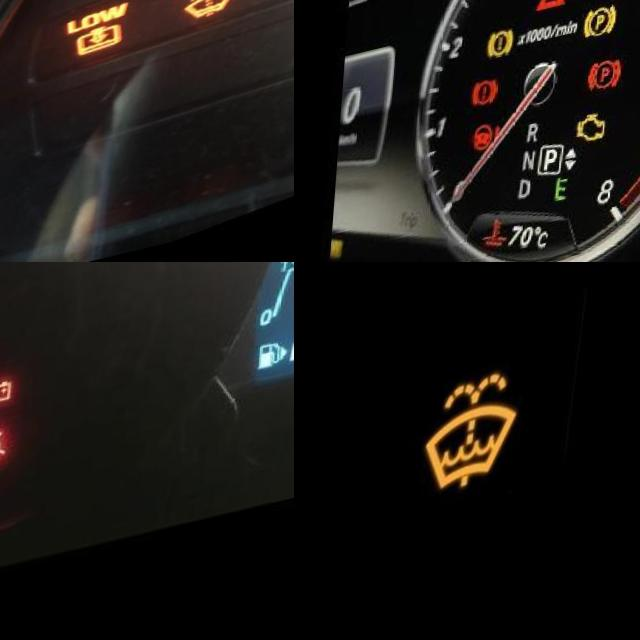Engine cooling system: (485, 227, 516, 262)
Seat Belt: (0, 437, 12, 478)
Washer Fluid: (426, 386, 523, 509), (189, 0, 239, 39)
